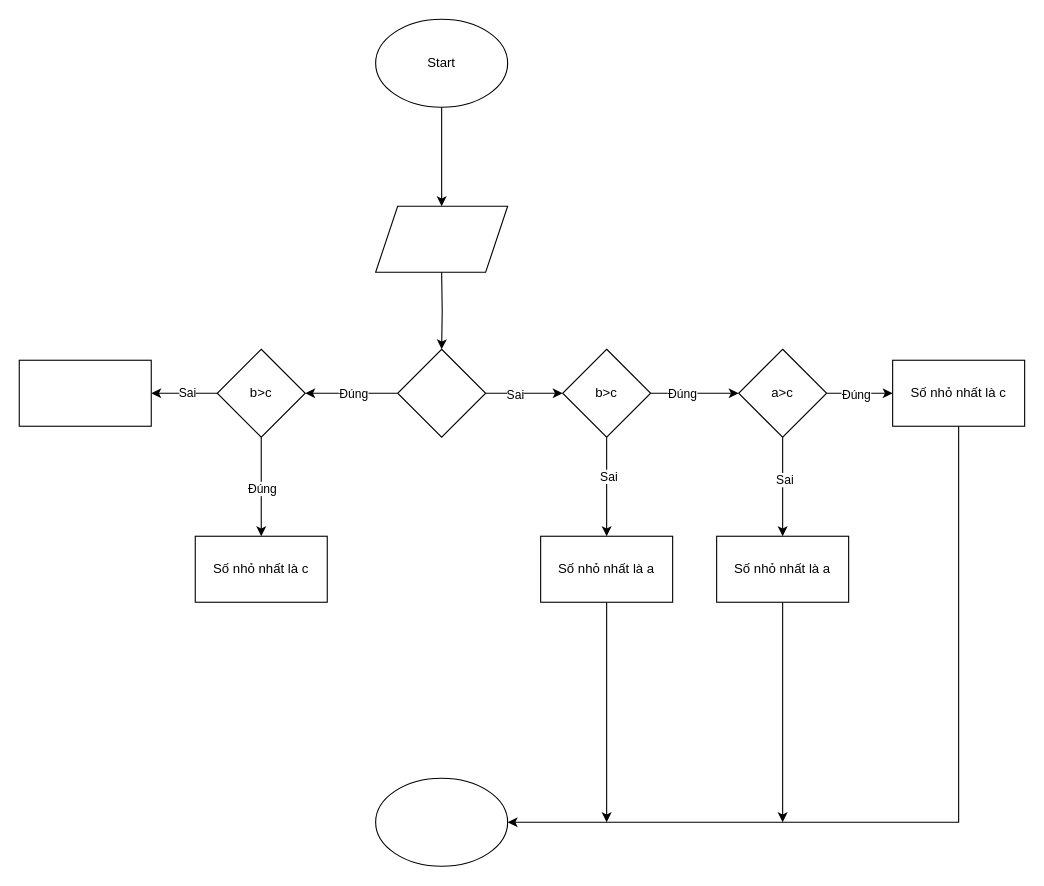
This 1044x886 diagram has some shape labels left out. The box of each missing label's shape, as (x1, y1, x2, y2) in pixels:
a>b: (397, 348, 486, 437)
End: (375, 777, 508, 866)
int a,b,c: (375, 205, 508, 272)
Số nhỏ nhất là b: (18, 359, 151, 426)
